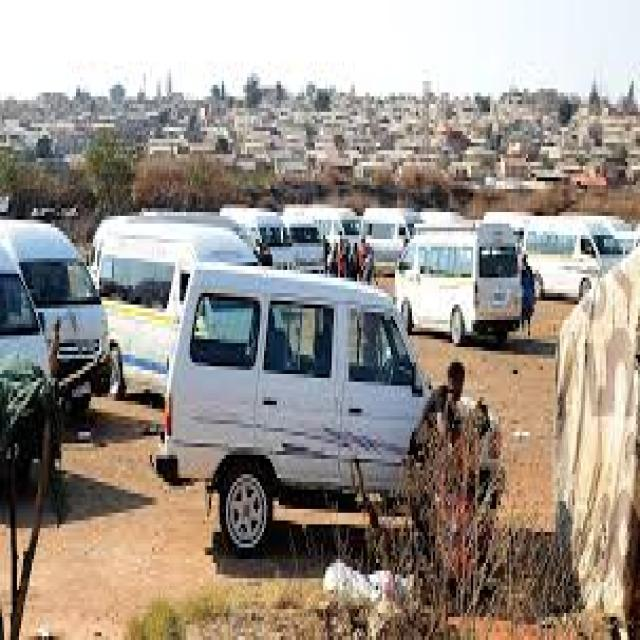MiniBus taxi: (393, 220, 526, 335)
